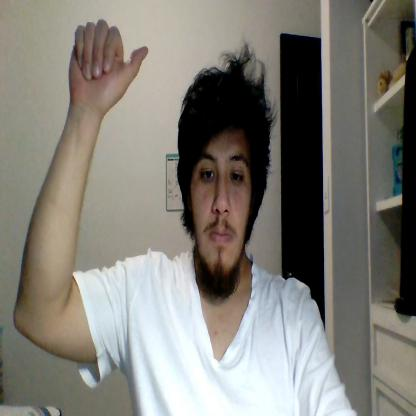A: (69, 19, 148, 110)
